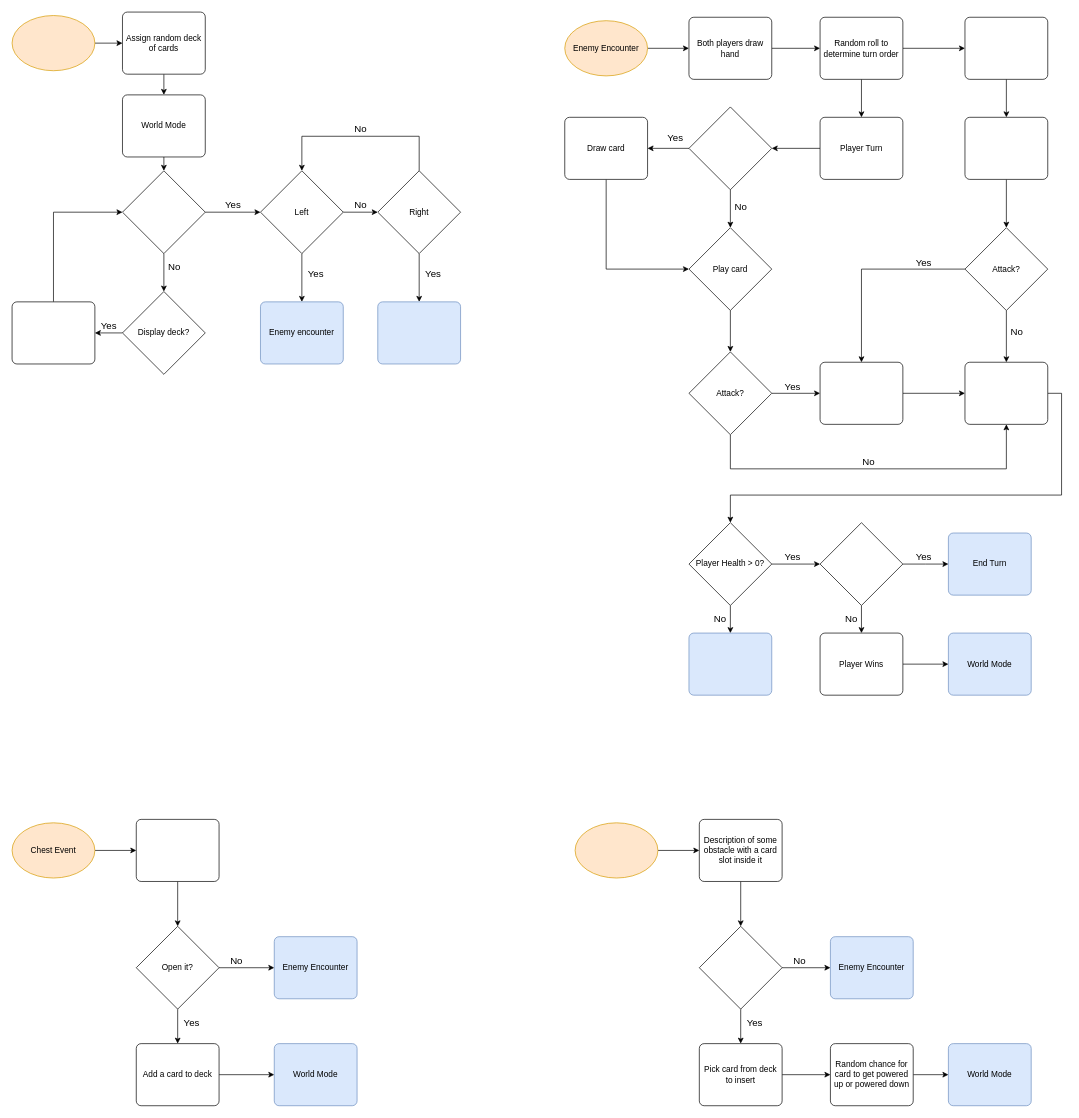
The diagram is 1079 pixels wide and 1118 high, and some of its shapes have lost their labels. The box of each missing label's shape, as (x1, y1, x2, y2) in pixels:
Card Combat: (819, 362, 903, 424)
Card Event: (574, 822, 658, 878)
Check Health: (964, 362, 1048, 424)
Displays cards in deck: (11, 301, 95, 364)
Draw card?: (688, 106, 772, 190)
Encounter a chest: (136, 819, 219, 881)
Enemy Health > 0?: (819, 522, 903, 605)
Enemy plays card: (964, 117, 1048, 179)
Enemy turn: (964, 17, 1048, 79)
Event: (377, 301, 461, 364)
Game Over: (688, 632, 772, 695)
Insert card?: (699, 926, 782, 1009)
Move: (122, 170, 205, 254)
Start: (11, 15, 95, 71)
